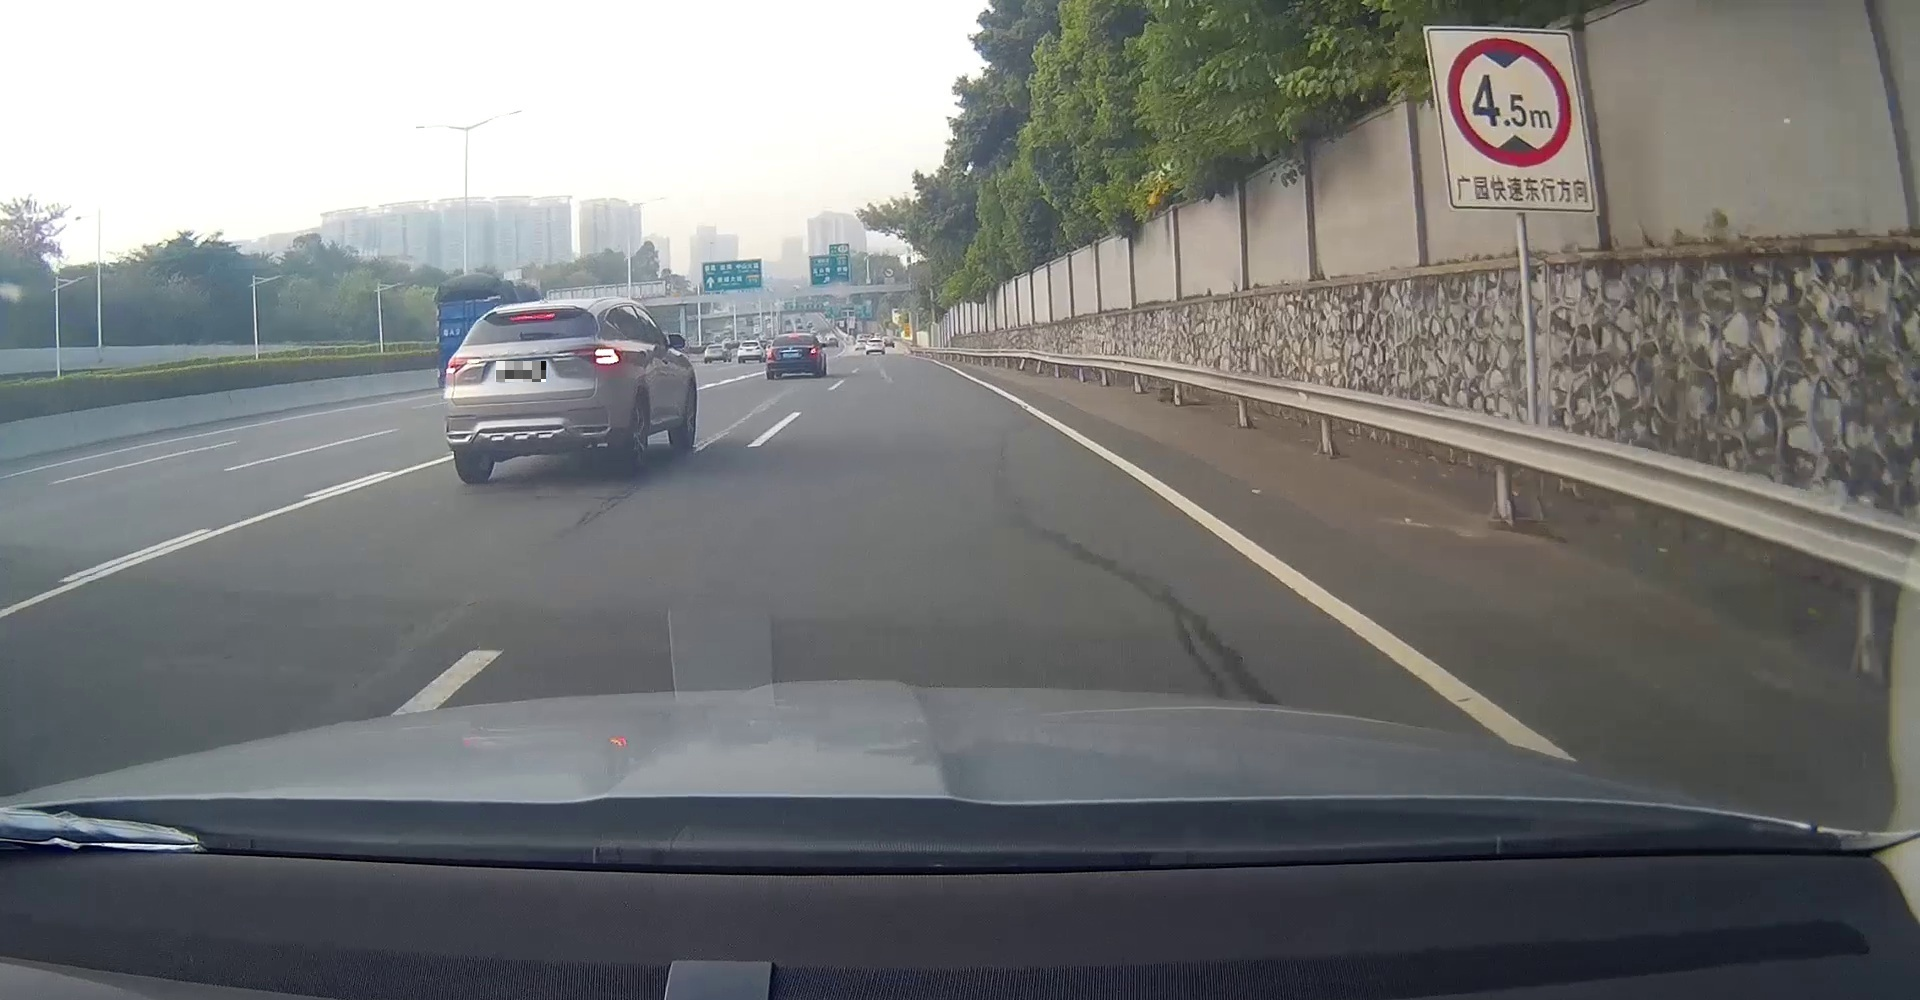L_light: (444, 357, 483, 374), (767, 349, 776, 360)
R_light: (577, 346, 621, 365), (809, 346, 819, 359)
T_light: (509, 312, 556, 321), (789, 335, 799, 339)
day-brake: (766, 332, 820, 379)
day-right: (443, 299, 630, 484)
plate_1: (497, 360, 546, 382)
